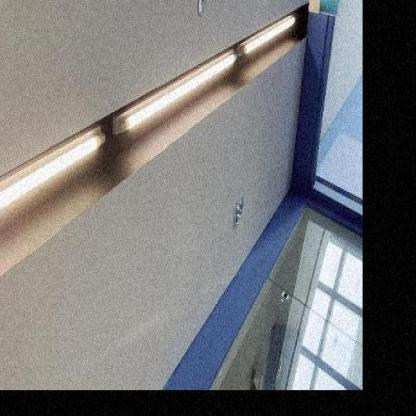light_on: (0, 115, 106, 257), (118, 42, 237, 164), (236, 8, 302, 62)
